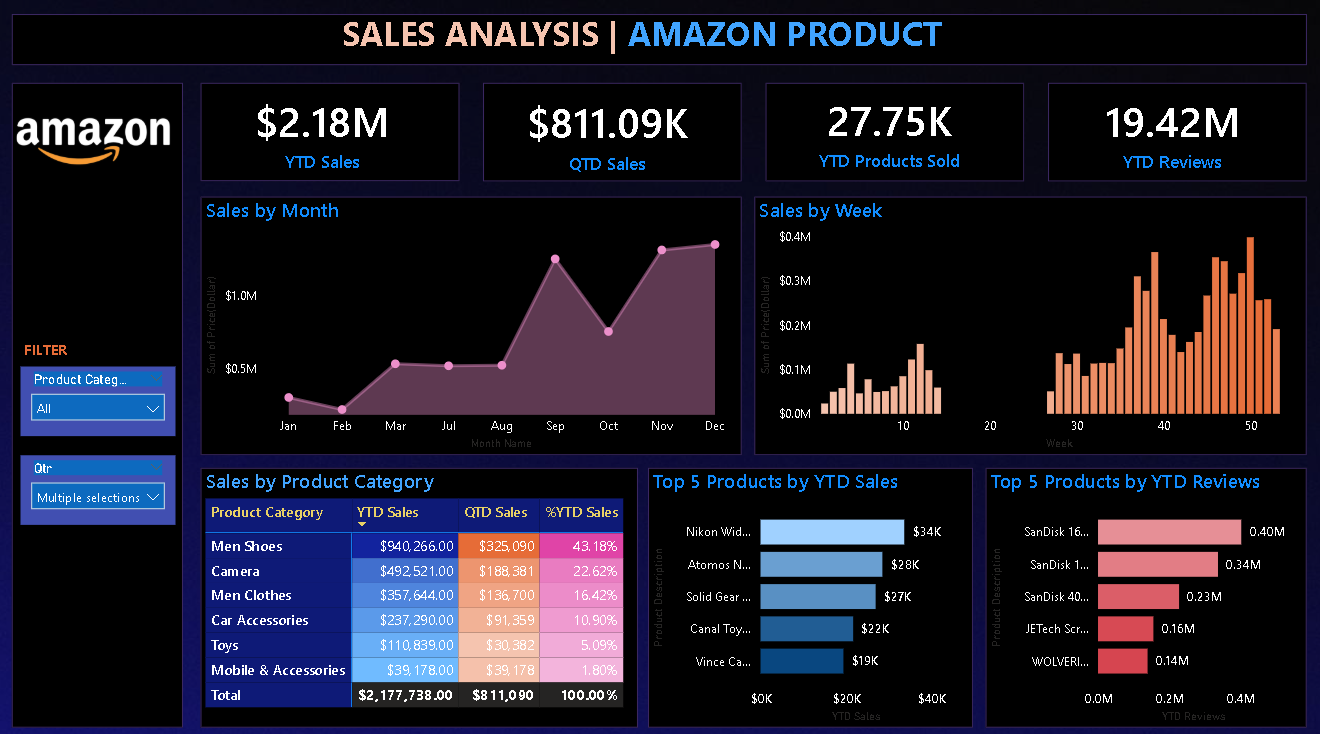

The dashboard page shown, as its layout file describes it:
{"tool":"powerbi","page":{"name":"Page 1","canvas":[1280,720],"ordinal":0},"visuals":[{"type":"shape","box":[13.7,19.2,1250.1,49.4],"z":0},{"type":"textbox","box":[326.9,10.9,614.1,57.9],"z":1000},{"type":"shape","box":[13.3,85.7,165.3,622.5],"z":2000},{"type":"shape","box":[194.9,85.1,250,95],"z":3000},{"type":"card","fields":{"Values":["Amazon_Data.YTD Sales"]},"box":[195.4,85.7,234,95.3],"z":4000},{"type":"shape","box":[467.9,85.7,249.7,95.3],"z":5000},{"type":"card","fields":{"Values":["Amazon_Data.QTD Sales"]},"box":[468.1,86.9,240.1,95.3],"z":6000},{"type":"shape","box":[740.6,85.7,249.7,95.3],"z":7000},{"type":"shape","box":[1013.4,85.7,249.7,95.3],"z":8000},{"type":"card","fields":{"Values":["Amazon_Data.YTD Products Sold"]},"box":[740.8,84.5,240.1,95.3],"z":9000},{"type":"card","fields":{"Values":["Amazon_Data.YTD Reviews"]},"box":[1013.4,85.7,240.1,95.3],"z":10000},{"type":"shape","box":[195.4,195.4,522.4,249.7],"z":11000},{"type":"areaChart","title":"Sales by Month","fields":{"Category":["Date Table.Month Name"],"Y":["Sum(Amazon_Data.Price(Dollar))"]},"box":[195.4,195.4,522.4,249.7],"z":12000},{"type":"shape","box":[729.9,195.4,533.2,249.7],"z":14000},{"type":"columnChart","title":"Sales by Week","fields":{"Category":["Date Table.Week"],"Y":["Sum(Amazon_Data.Price(Dollar))"]},"box":[729.9,195.4,533.2,249.7],"z":15000},{"type":"shape","box":[195.4,457.2,422.3,250.9],"z":16000},{"type":"pivotTable","title":"Sales by Product Category","fields":{"Rows":["Amazon_Data.Product Category"],"Values":["Amazon_Data.YTD Sales1","Amazon_Data.QTD Sales","Amazon_Data.YTD Sales"]},"box":[195.4,457.2,422.3,250.9],"z":17000},{"type":"shape","box":[627.3,457.2,313.7,250.9],"z":18000},{"type":"shape","box":[953.1,457.2,310.1,250.9],"z":19000},{"type":"clusteredBarChart","title":"Top 5 Products by YTD Sales ","fields":{"Category":["Amazon_Data.Product Description"],"Y":["Amazon_Data.YTD Sales"]},"box":[627.3,457.2,313.7,250.9],"z":20000},{"type":"clusteredBarChart","title":"Top 5 Products by YTD Reviews ","fields":{"Category":["Amazon_Data.Product Description"],"Y":["Amazon_Data.YTD Reviews"]},"box":[953.1,457.2,313.7,250.9],"z":21000},{"type":"slicer","fields":{"Values":["Amazon_Data.Product Category"]},"box":[21.7,359.5,149.6,67.6],"z":22000},{"type":"slicer","fields":{"Values":["Date Table.Qtr"]},"box":[21.7,445.2,149.6,67.6],"z":22001},{"type":"image","box":[13.3,43.4,159.3,206.3],"z":22002},{"type":"textbox","box":[20.5,329.4,300.4,43.4],"z":22003}]}

Visuals, with their boxes in screenshot pixels (x1, y1, x2, y2), scaled from the page's 1280x720 canvas onto the 1320x734 screenshot:
shape: [left=14, top=20, right=1303, bottom=70]
textbox: [left=337, top=11, right=970, bottom=70]
shape: [left=14, top=87, right=184, bottom=722]
shape: [left=201, top=87, right=459, bottom=184]
card - Amazon_Data.YTD Sales: [left=202, top=87, right=443, bottom=185]
shape: [left=483, top=87, right=740, bottom=185]
card - Amazon_Data.QTD Sales: [left=483, top=89, right=730, bottom=186]
shape: [left=764, top=87, right=1021, bottom=185]
shape: [left=1045, top=87, right=1303, bottom=185]
card - Amazon_Data.YTD Products Sold: [left=764, top=86, right=1012, bottom=183]
card - Amazon_Data.YTD Reviews: [left=1045, top=87, right=1293, bottom=185]
shape: [left=202, top=199, right=740, bottom=454]
"Sales by Month" areaChart: [left=202, top=199, right=740, bottom=454]
shape: [left=753, top=199, right=1303, bottom=454]
"Sales by Week" columnChart: [left=753, top=199, right=1303, bottom=454]
shape: [left=202, top=466, right=637, bottom=722]
"Sales by Product Category" pivotTable: [left=202, top=466, right=637, bottom=722]
shape: [left=647, top=466, right=970, bottom=722]
shape: [left=983, top=466, right=1303, bottom=722]
"Top 5 Products by YTD Sales " clusteredBarChart: [left=647, top=466, right=970, bottom=722]
"Top 5 Products by YTD Reviews " clusteredBarChart: [left=983, top=466, right=1306, bottom=722]
slicer - Amazon_Data.Product Category: [left=22, top=366, right=177, bottom=435]
slicer - Date Table.Qtr: [left=22, top=454, right=177, bottom=523]
image: [left=14, top=44, right=178, bottom=255]
textbox: [left=21, top=336, right=331, bottom=380]
